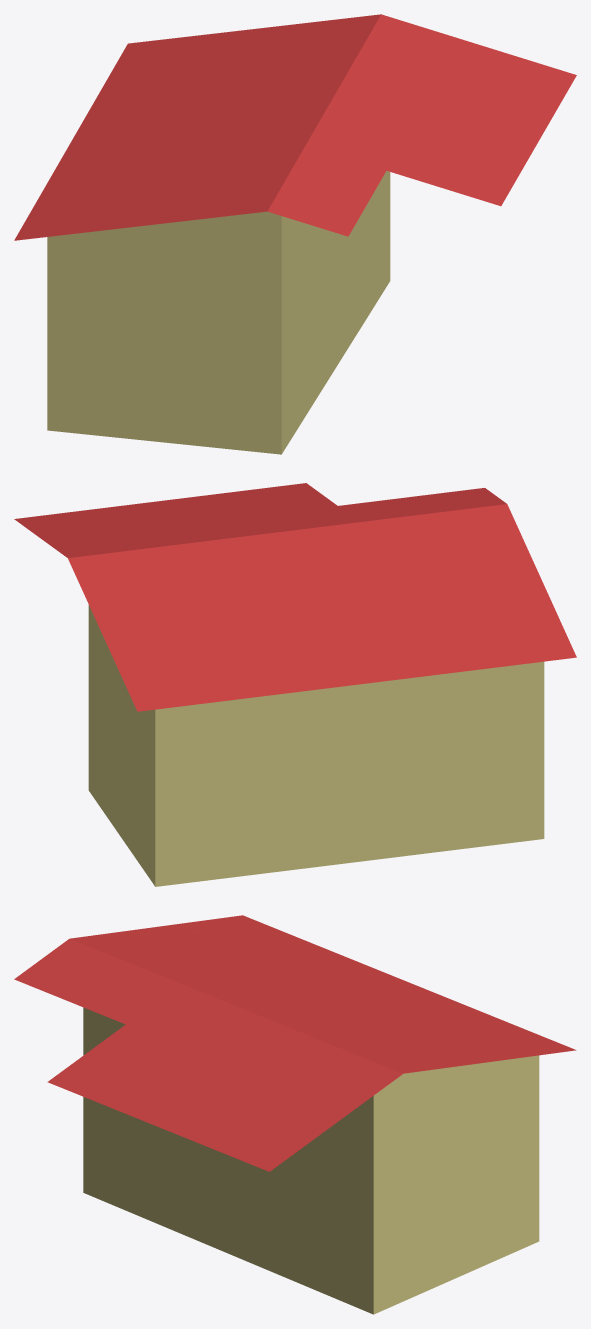
The picture shows the model from 3 angles, top to bottom: view 1: azimuth 30°, elevation 25°; view 2: azimuth 150°, elevation 25°; view 3: azimuth 270°, elevation 25°; orthographic projection. The views are drawn at different scales.
Bounding box in the file's own units: 18.1 × 15.9 × 7.6.
